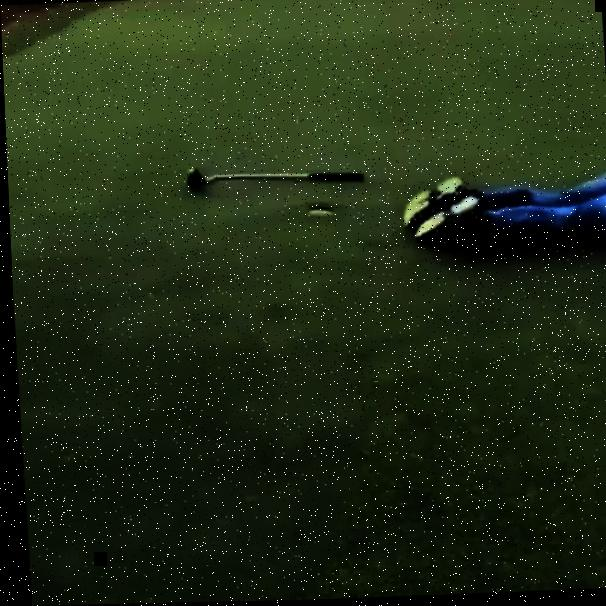ClubHead: (185, 170, 205, 190)
